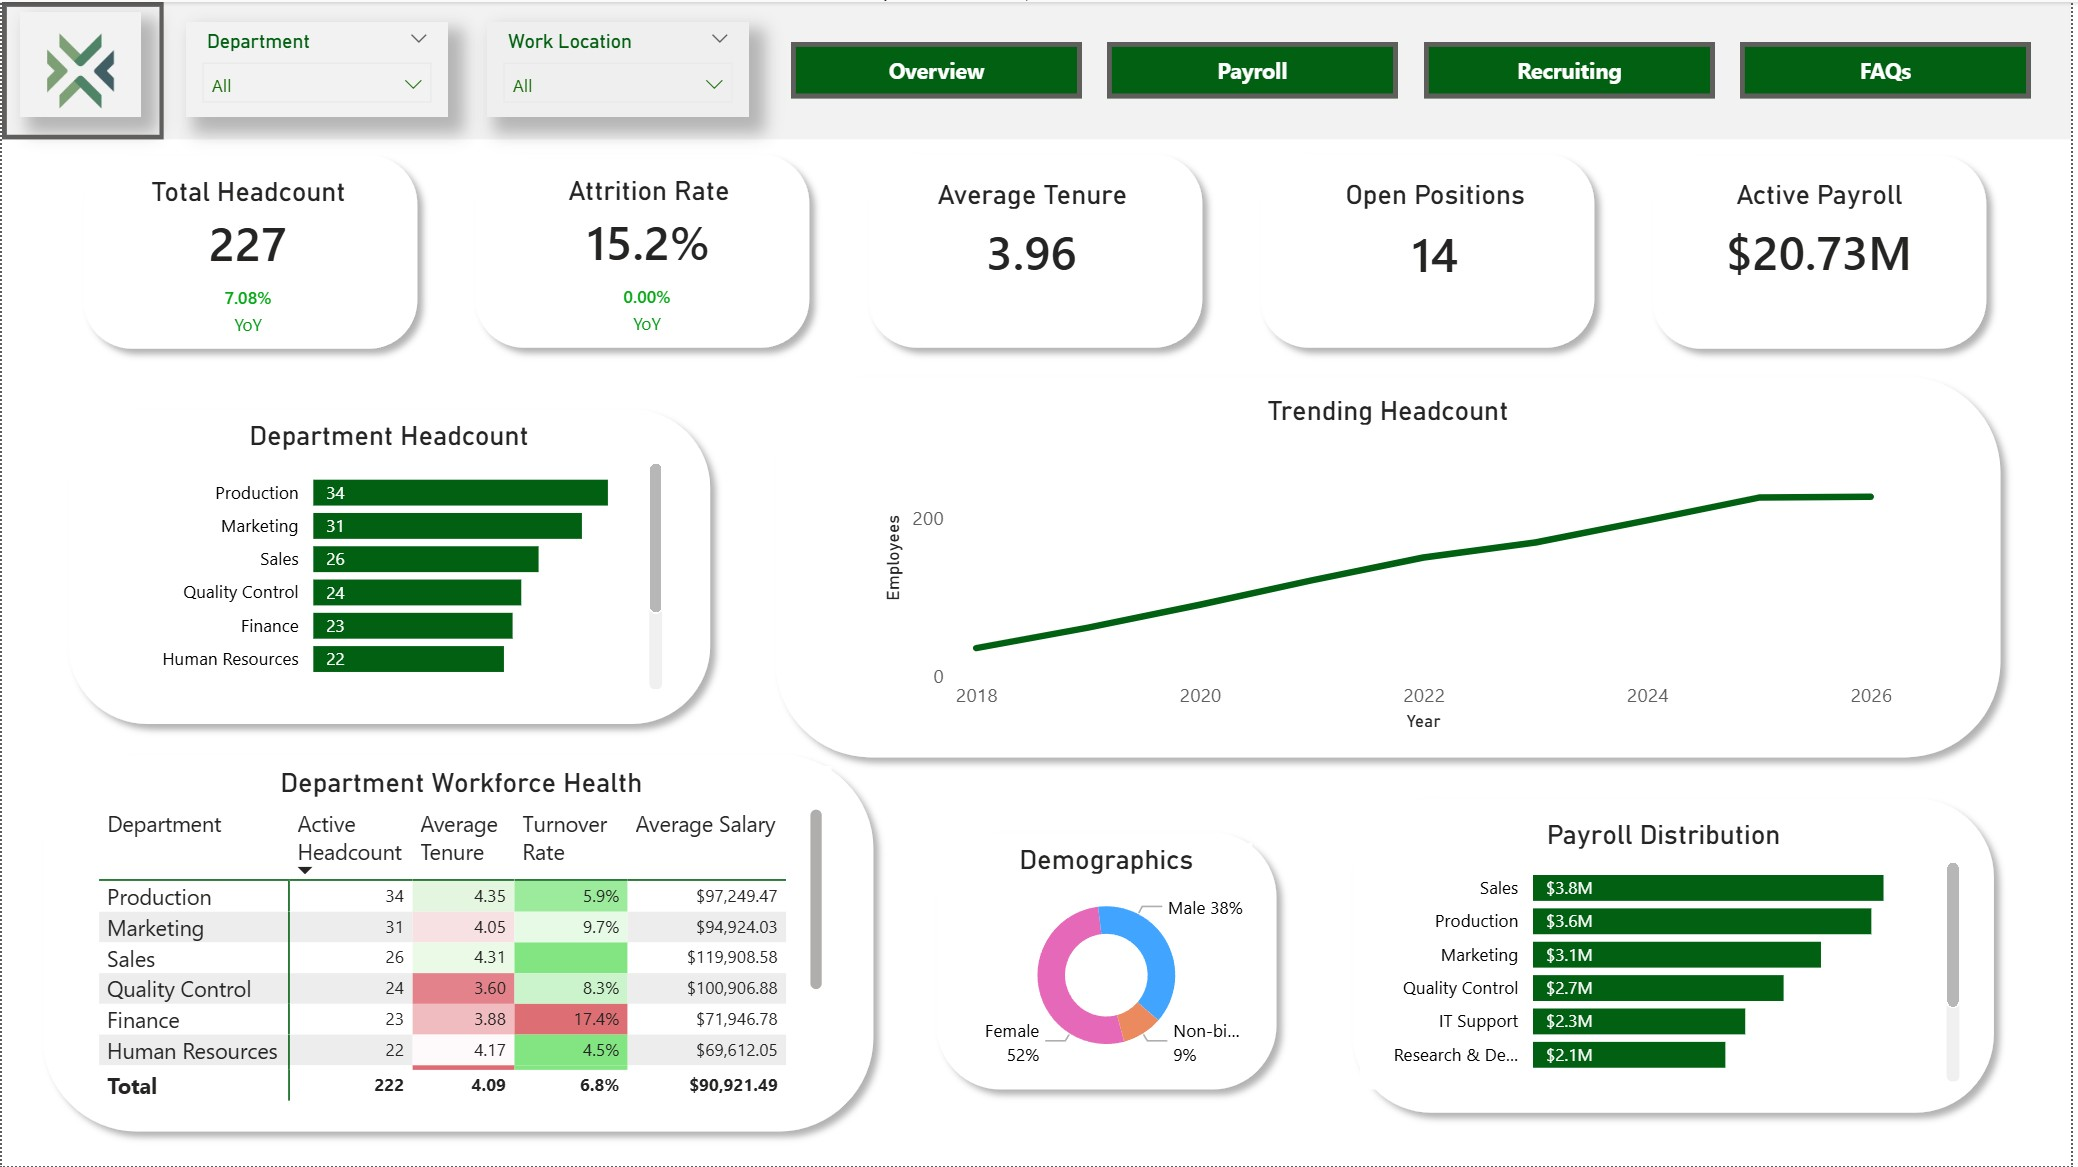

The dashboard page shown, as its layout file describes it:
{"tool":"powerbi","page":{"name":"Overview","canvas":[1280,720],"ordinal":0},"visuals":[{"type":"group","id":"g1","title":"Top Bar","box":[0,0,1280,85.3],"z":0},{"type":"shape","box":[0,0,1280,85.3],"z":0,"group":"g1"},{"type":"group","id":"g2","title":"KPI Cards","box":[41.4,85.2,1194.9,138.4],"z":0,"group":"g5"},{"type":"group","id":"g3","title":"TORateKPI","box":[284.1,85.2,224.5,137.5],"z":0,"group":"g2"},{"type":"shape","box":[284.1,85.2,224.5,137.5],"z":0,"group":"g3"},{"type":"shape","box":[526.7,85.2,224.5,137.5],"z":0,"group":"g6"},{"type":"shape","box":[769.2,85.2,224.5,137.5],"z":0,"group":"g8"},{"type":"shape","box":[41.4,86,224.5,137.5],"z":0,"group":"g11"},{"type":"shape","box":[1011.8,86,224.5,137.5],"z":0,"group":"g10"},{"type":"shape","box":[469.4,223,775.7,253.6],"z":0,"group":"g13"},{"type":"shape","box":[32.1,243.4,414.9,212.5],"z":0,"group":"g12"},{"type":"shape","box":[15.8,456.8,532,251.1],"z":0,"group":"g9"},{"type":"group","id":"g4","title":"PayrollDist","box":[826.1,484,415.1,212.2],"z":0,"group":"g7"},{"type":"shape","box":[826.1,484,414.7,212.3],"z":0,"group":"g4"},{"type":"group","id":"g5","title":"AllVisuals","box":[0,0,1245.1,707.9],"z":1000},{"type":"actionButton","box":[487.8,24.9,179.9,34.8],"z":1000,"group":"g1"},{"type":"group","id":"g6","title":"TenKPI","box":[526.7,85.2,224.5,137.5],"z":1000,"group":"g2"},{"type":"cardVisual","title":"Average Tenure","fields":{"Data":["testMeasures.Average Tenure.test"]},"box":[544.9,103.6,184.9,74.8],"z":1000,"group":"g6"},{"type":"cardVisual","title":"Open Positions","fields":{"Data":[".Measures.Open Jobs"]},"box":[794.4,103.6,183.7,77.9],"z":1000,"group":"g8"},{"type":"cardVisual","title":"Active Payroll","fields":{"Data":[".Measures.Active Payroll"]},"box":[1033,103.9,182.5,75.5],"z":1000,"group":"g10"},{"type":"cardVisual","fields":{"Data":[".Measures.Turnover Rate YoY"]},"box":[363.3,170,72.7,40.5],"z":1000,"group":"g3"},{"type":"cardVisual","fields":{"Data":[".Measures.Headcount Growth %"]},"box":[116,170.7,73,40.2],"z":1000,"group":"g11"},{"type":"group","id":"g7","title":"Visuals","box":[15.8,223,1229.3,485],"z":1000,"group":"g5"},{"type":"lineChart","title":"Trending Headcount","fields":{"Category":["DateTable.Year"],"Y":["testMeasures.Headcount As Of"]},"box":[540.7,242.8,633.3,213.3],"z":1000,"group":"g13"},{"type":"clusteredBarChart","title":"Department Headcount","fields":{"Category":["EmployeeData.test.Department "],"Y":[".Measures.Current Headcount"]},"box":[65.6,258.5,347.8,172.5],"z":1000,"group":"g12"},{"type":"pivotTable","title":"Department Workforce Health","fields":{"Values":[".Measures.Current Headcount",".Measures.Average Tenure.test",".Measures.Turnover Rate.test","Avg(EmployeeData.Salary)"],"Rows":["EmployeeData.Department "]},"box":[54.9,473,458.4,212.2],"z":1000,"group":"g9"},{"type":"shape","box":[569.1,504.8,228.2,177],"z":1000,"group":"g7"},{"type":"clusteredBarChart","title":"Payroll Distribution","fields":{"Category":["EmployeeData.test.Department "],"Y":["testMeasures.Total Payroll.test"]},"box":[839.8,505,375.8,168.3],"z":1000,"group":"g4"},{"type":"actionButton","box":[0,0,100.4,85.1],"z":1001,"group":"g5"},{"type":"actionButton","box":[683.6,24.9,179.9,34.8],"z":2000,"group":"g1"},{"type":"group","id":"g8","title":"OpenPosKPI","box":[769.2,85.2,224.5,137.5],"z":2000,"group":"g2"},{"type":"cardVisual","title":"Attrition Rate","fields":{"Data":["testMeasures.Turnover Rate.test"]},"box":[307.8,101.5,185.6,67.5],"z":2000,"group":"g3"},{"type":"cardVisual","title":"Total Headcount","fields":{"Data":["Count(EmployeeData.test.Employee ID)"]},"box":[62.4,102.3,180,66.9],"z":2000,"group":"g11"},{"type":"group","id":"g9","title":"Scorecard","box":[15.8,456.8,532,251.1],"z":2000,"group":"g7"},{"type":"slicer","fields":{"Values":["EmployeeData.Work Location"]},"box":[300,12.4,162.1,58.8],"z":3000,"group":"g1"},{"type":"group","id":"g10","title":"TotPay KPI","box":[1011.8,86,224.5,137.5],"z":3000,"group":"g2"},{"type":"donutChart","title":"Demographics","fields":{"Category":["EmployeeData.Gender"],"Y":[".Measures.Current Headcount"]},"box":[592.6,520.7,179.8,144.5],"z":3000,"group":"g7"},{"type":"actionButton","box":[879.4,24.9,179.9,34.8],"z":4000,"group":"g1"},{"type":"group","id":"g11","title":"HdctKPI","box":[41.4,86,224.5,137.5],"z":4000,"group":"g2"},{"type":"group","id":"g12","title":"Departmenthdct","box":[32.1,243.4,415.1,212.8],"z":4000,"group":"g7"},{"type":"slicer","fields":{"Values":["Departments.Department"]},"box":[113.8,12.4,162.1,58.8],"z":5000,"group":"g1"},{"type":"group","id":"g13","title":"TrendingHC","box":[469.4,223,775.7,253.6],"z":5000,"group":"g7"},{"type":"actionButton","box":[1075.2,24.9,179.9,34.8],"z":6000,"group":"g1"},{"type":"image","box":[11.1,6.2,74.8,64.9],"z":7000,"group":"g1"}]}

Visuals, with their boxes in screenshot pixels (x1, y1, x2, y2), scaled from the page's 1280x720 canvas onto the 2078x1167 screenshot:
"Top Bar" group: rect(0, 0, 2077, 138)
shape: rect(0, 0, 2077, 138)
"KPI Cards" group: rect(67, 138, 2007, 362)
"TORateKPI" group: rect(461, 138, 826, 361)
shape: rect(461, 138, 826, 361)
shape: rect(855, 138, 1220, 361)
shape: rect(1249, 138, 1613, 361)
shape: rect(67, 139, 432, 362)
shape: rect(1643, 139, 2007, 362)
shape: rect(762, 361, 2021, 772)
shape: rect(52, 395, 726, 739)
shape: rect(26, 740, 889, 1147)
"PayrollDist" group: rect(1341, 784, 2015, 1128)
shape: rect(1341, 784, 2014, 1129)
"AllVisuals" group: rect(0, 0, 2021, 1147)
actionButton: rect(792, 40, 1084, 97)
"TenKPI" group: rect(855, 138, 1220, 361)
"Average Tenure" cardVisual: rect(885, 168, 1185, 289)
"Open Positions" cardVisual: rect(1290, 168, 1588, 294)
"Active Payroll" cardVisual: rect(1677, 168, 1973, 291)
cardVisual - .Measures.Turnover Rate YoY: rect(590, 276, 708, 341)
cardVisual - .Measures.Headcount Growth %: rect(188, 277, 307, 342)
"Visuals" group: rect(26, 361, 2021, 1148)
"Trending Headcount" lineChart: rect(878, 394, 1906, 739)
"Department Headcount" clusteredBarChart: rect(106, 419, 671, 699)
"Department Workforce Health" pivotTable: rect(89, 767, 833, 1111)
shape: rect(924, 818, 1294, 1105)
"Payroll Distribution" clusteredBarChart: rect(1363, 819, 1973, 1091)
actionButton: rect(0, 0, 163, 138)
actionButton: rect(1110, 40, 1402, 97)
"OpenPosKPI" group: rect(1249, 138, 1613, 361)
"Attrition Rate" cardVisual: rect(500, 165, 801, 274)
"Total Headcount" cardVisual: rect(101, 166, 394, 274)
"Scorecard" group: rect(26, 740, 889, 1147)
slicer - EmployeeData.Work Location: rect(487, 20, 750, 115)
"TotPay KPI" group: rect(1643, 139, 2007, 362)
"Demographics" donutChart: rect(962, 844, 1254, 1078)
actionButton: rect(1428, 40, 1720, 97)
"HdctKPI" group: rect(67, 139, 432, 362)
"Departmenthdct" group: rect(52, 395, 726, 739)
slicer - Departments.Department: rect(185, 20, 448, 115)
"TrendingHC" group: rect(762, 361, 2021, 772)
actionButton: rect(1746, 40, 2038, 97)
image: rect(18, 10, 139, 115)
